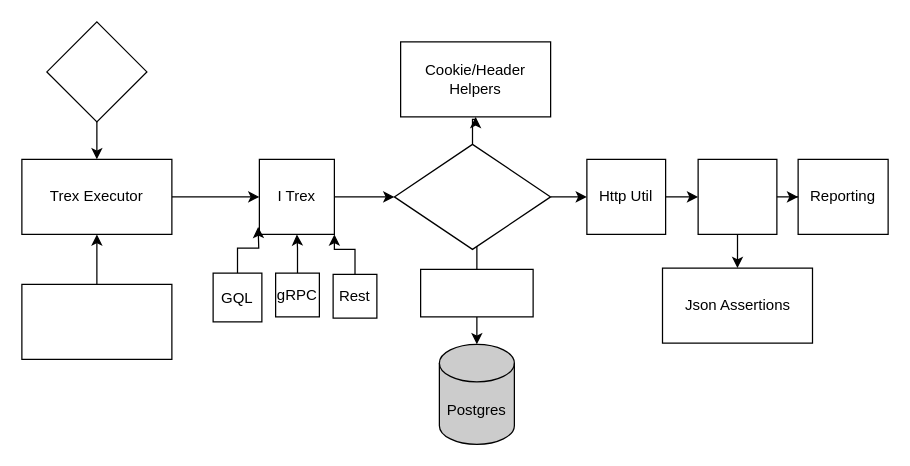
This 910x466 diagram has some shape labels left out. The box of each missing label's shape, as (x1, y1, x2, y2) in pixels:
Auth Helper: (419, 268, 533, 317)
Config Helpers: (21, 283, 172, 359)
Execute requests: (393, 143, 551, 249)
Response Parsers: (697, 158, 777, 234)
Test Cases: (46, 21, 147, 122)
